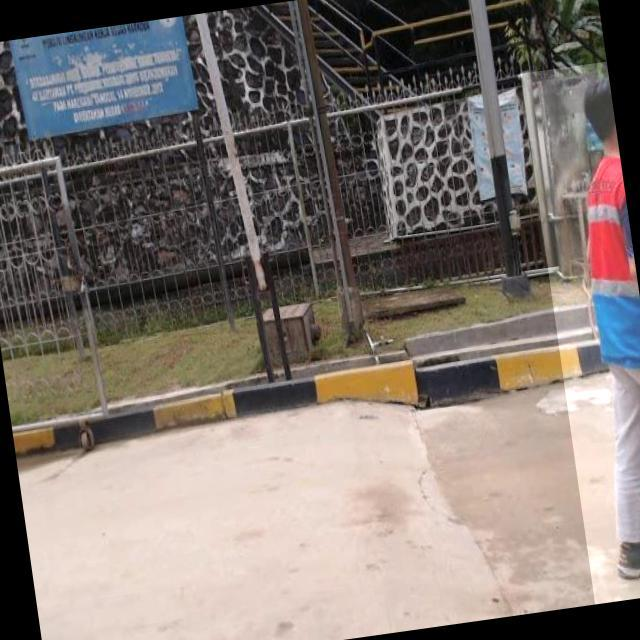Person: (532, 73, 640, 608)
Safety Boot: (608, 523, 640, 590)
Safety Vest: (564, 141, 640, 381)
no-helmet: (578, 74, 623, 124)
